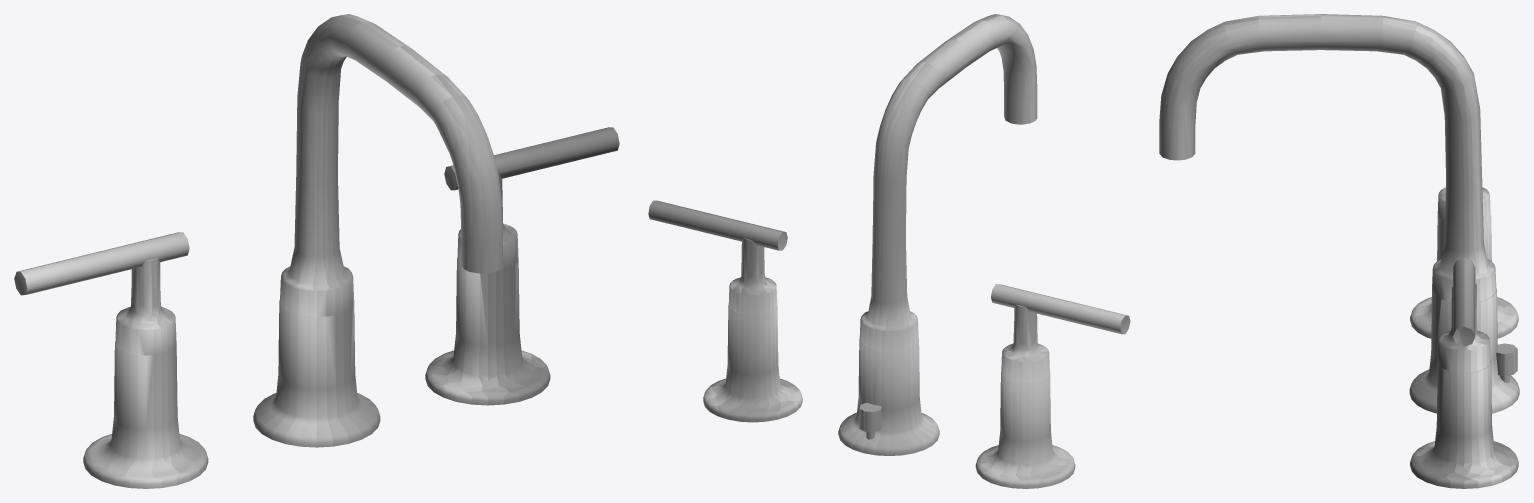
File: sink-faucet-7.glb
3 views of the same model, side by side, from view 1: azimuth 30°, elevation 25°; view 2: azimuth 150°, elevation 25°; view 3: azimuth 270°, elevation 25° (orthographic). The views are drawn at different scales.
Parts seen in each view (by area): view 1: 3DGeom-3; view 2: 3DGeom-3; view 3: 3DGeom-3.
Part boxes in pixels (bbox=[...]): 3DGeom-3: bbox=[14, 14, 619, 488]; 3DGeom-3: bbox=[648, 14, 1130, 488]; 3DGeom-3: bbox=[1159, 14, 1519, 488].
Bounding box in the file's own units: 0.2641 × 0.1852 × 0.1601.
1 material, 1 textured.
